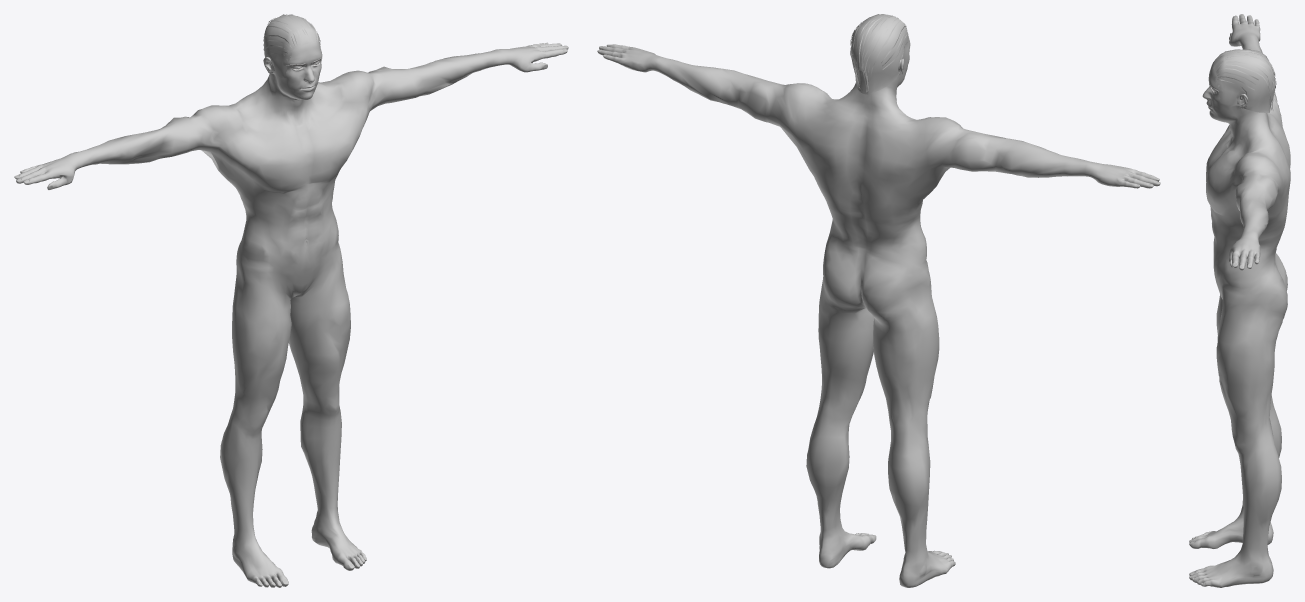
Rendered from Nude T Pose Final FBX.fbx.
The picture shows the model from 3 angles, left to right: view 1: azimuth 30°, elevation 25°; view 2: azimuth 150°, elevation 25°; view 3: azimuth 270°, elevation 25°; orthographic projection. The views are drawn at different scales.
Visible parts, largest first — view 1: male_muscle_13290Mesh, short04Mesh; view 2: male_muscle_13290Mesh, short04Mesh; view 3: male_muscle_13290Mesh, short04Mesh.
Part boxes in pixels (box(x1,y1,x2,y2)): male_muscle_13290Mesh: box(14, 42, 568, 587); short04Mesh: box(263, 14, 321, 78); male_muscle_13290Mesh: box(597, 38, 1160, 587); short04Mesh: box(850, 14, 909, 94); male_muscle_13290Mesh: box(1189, 14, 1290, 587); short04Mesh: box(1213, 49, 1276, 112).
Size of the model in its own units: 187 by 176 by 31.59.
